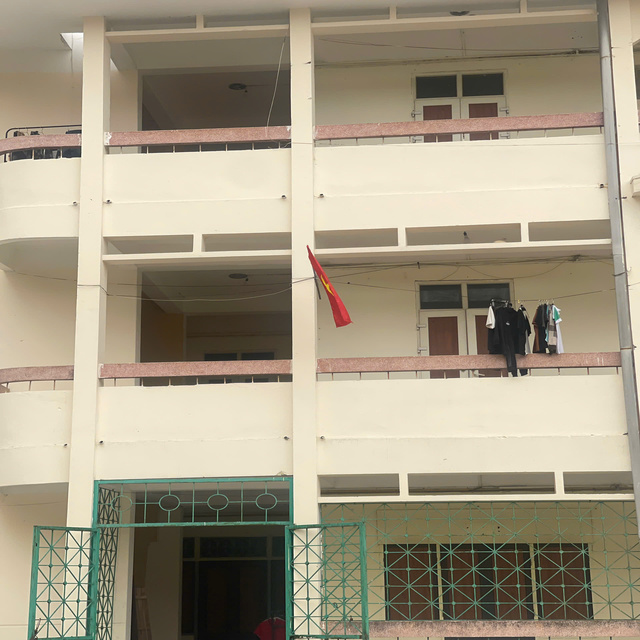laco: (300, 243, 360, 340)
